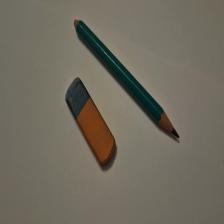eraser: (66, 77, 117, 167)
pencil: (75, 20, 180, 140)
